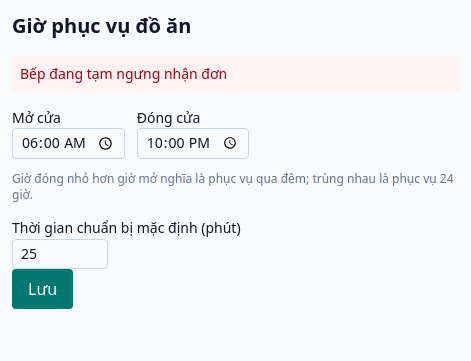
Scenario: RoomServiceSettingsForm › blocks a preparation time out of range and reports a refused save
Step 1. Replace the text in the field labelled "Thời gian chuẩn bị mặc định (phút)" with "3" → (60, 254), box [12, 239, 108, 269]
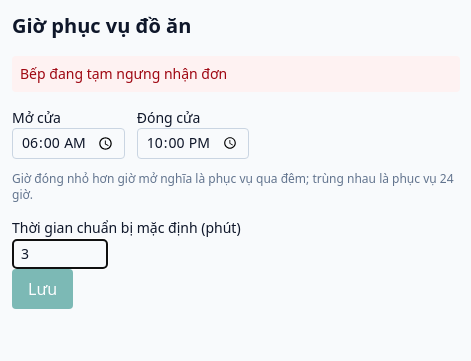
Result: the button "Lưu" is disabled at [12, 269, 73, 309]
Step 2. Type "0" into the field labelled "Thời gian chuẩn bị mặc định (phút)" → (60, 254), box [12, 239, 108, 269]
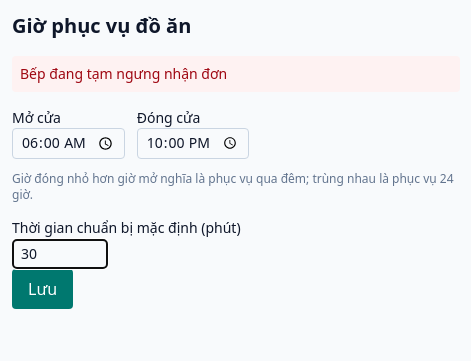
Step 3. Click the button "Lưu" → (43, 289), box [12, 269, 73, 309]
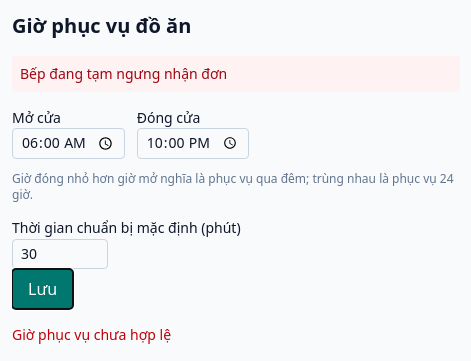
Result: the message reads "Giờ phục vụ chưa hợp lệ" at [12, 325, 171, 344]
